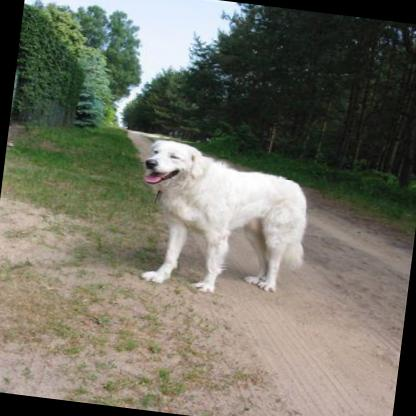kuvasz: (126, 132, 318, 304)
